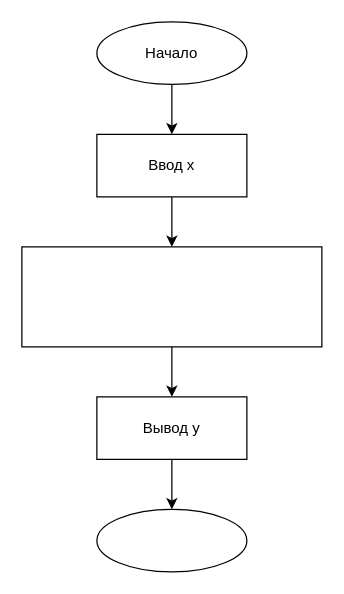
This 344x594 diagram has some shape labels left out. The centre of each missing label's shape, as x and y in pixels:
"a = sqrt(p * x) b = p * x * x + sqrt(a) y = pow(log(b*b), 3) + a * x" goes at point 171,296.
"Конец" goes at point 171,540.
